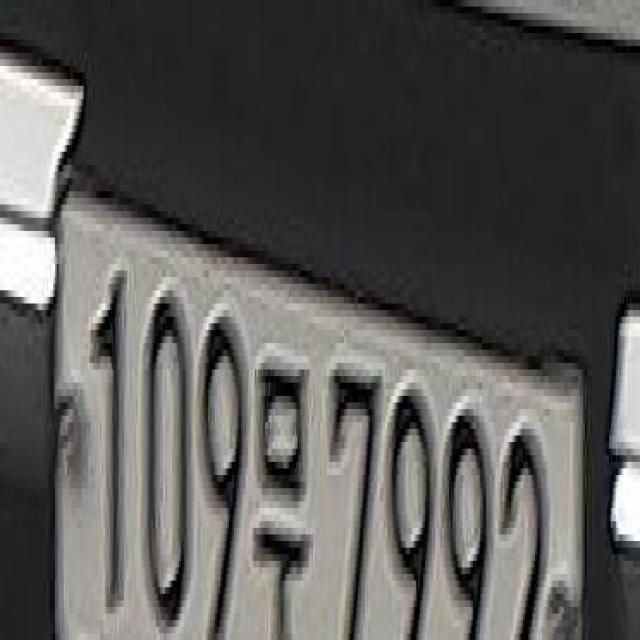illegal_plate: (39, 180, 591, 630)
